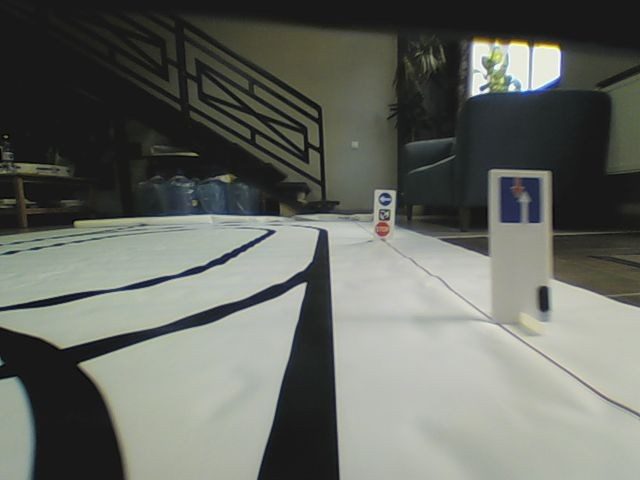priority_movement: (495, 177, 541, 224)
